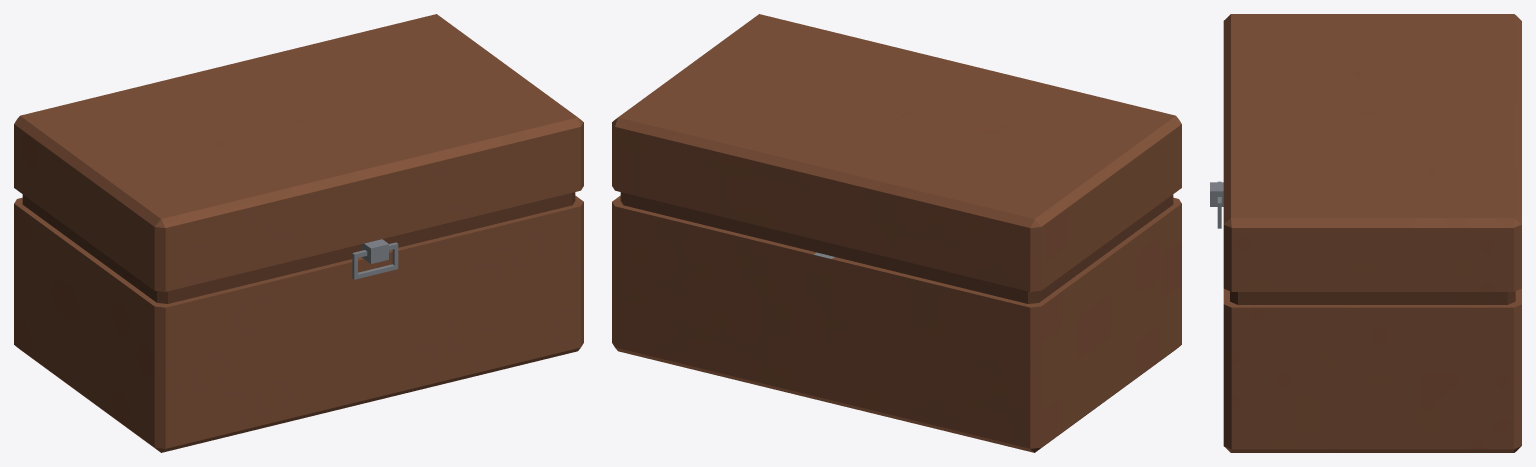
3 renders of one model, left to right at view 1: azimuth 30°, elevation 25°; view 2: azimuth 150°, elevation 25°; view 3: azimuth 270°, elevation 25°, orthographic.
Parts seen in each view (by area): view 1: Box_01; view 2: Box_01; view 3: Box_01.
Part boxes in pixels (x1,y1,x2,y2): Box_01: (14, 14, 583, 452); Box_01: (612, 14, 1181, 452); Box_01: (1210, 14, 1521, 452).
Bounding box in the file's own units: 1.26 × 0.6581 × 0.7921.
